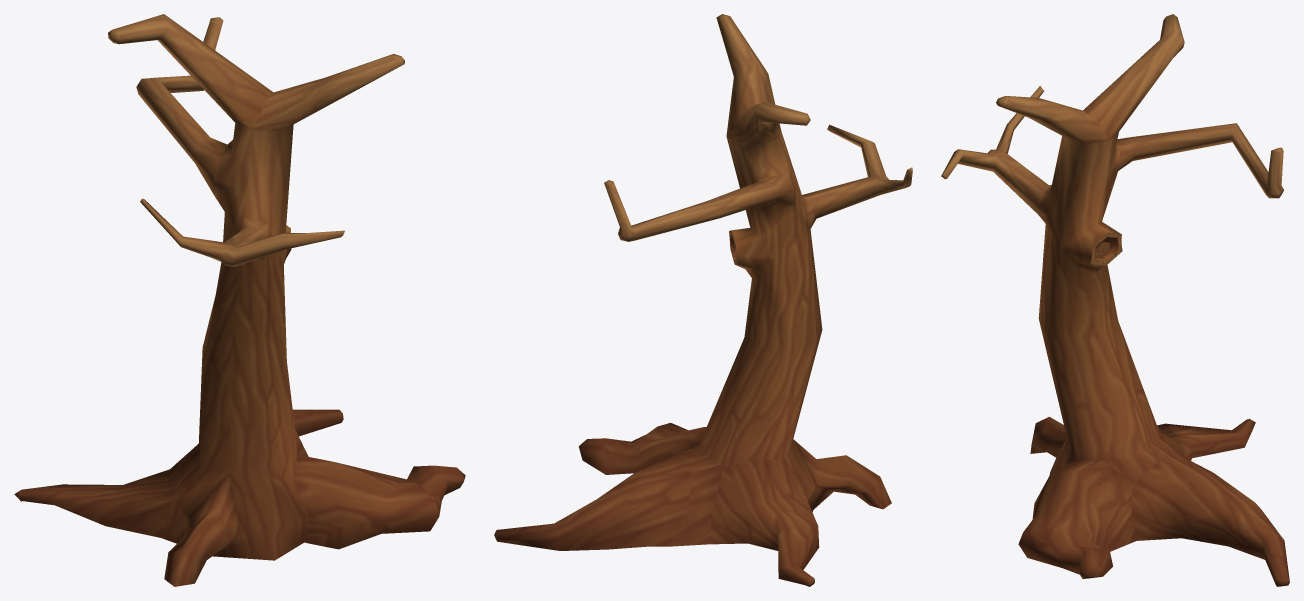
The model's file is Generic Tree #3.fbx.
3 renders of one model, left to right at view 1: azimuth 30°, elevation 25°; view 2: azimuth 150°, elevation 25°; view 3: azimuth 270°, elevation 25°, orthographic. The views are drawn at different scales.
Visible parts, largest first — view 1: Generic Tree #3; view 2: Generic Tree #3; view 3: Generic Tree #3.
Part boxes in pixels (box(x1,y1,x2,y2)): Generic Tree #3: box(14, 14, 465, 586); Generic Tree #3: box(494, 14, 912, 586); Generic Tree #3: box(941, 14, 1289, 586).
Bounding box in the file's own units: 239 × 325 × 229.
